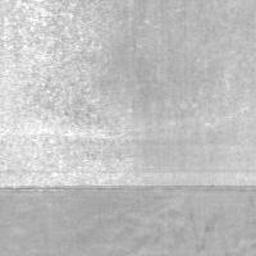Welding line: (0, 183, 256, 192)
